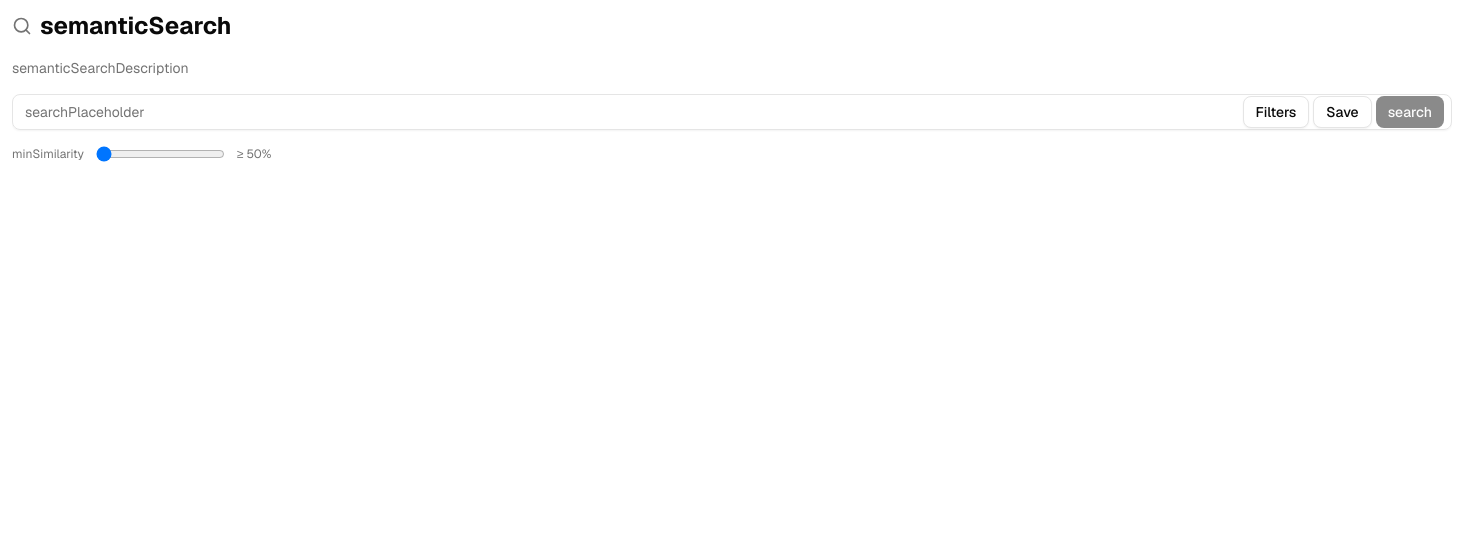
it: SearchBar accessibility › announces error via role=alert
The width and height of the screenshot is (1464, 556).
In the field with placeholder "searchPlaceholder": (732, 112) [12,94,1452,130], type "foo"
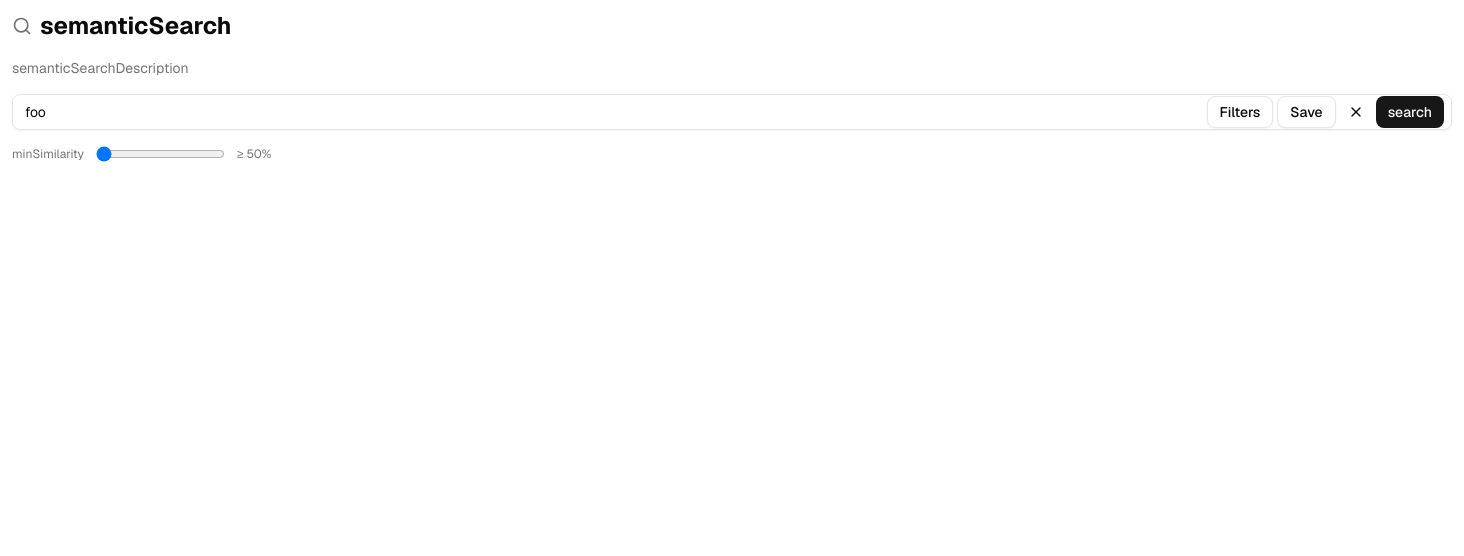
Submit the form with placeholder "searchPlaceholder", box [12,94,1452,130]
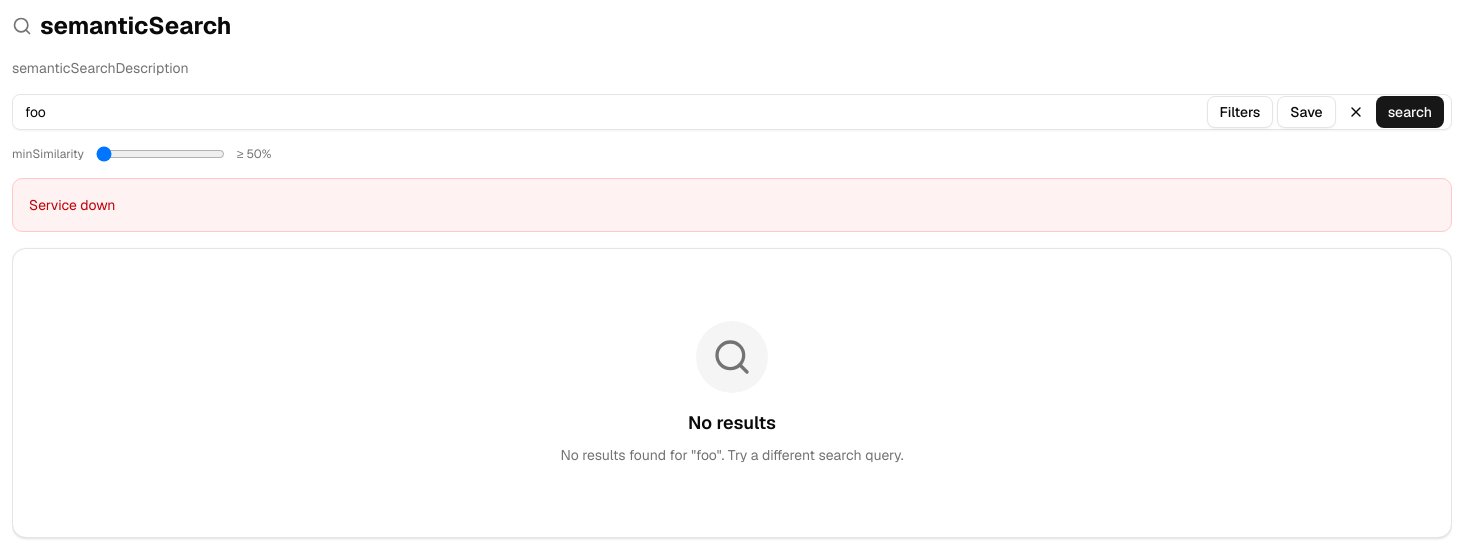
Expected: the message reads "Service down", [29,196,116,214]
